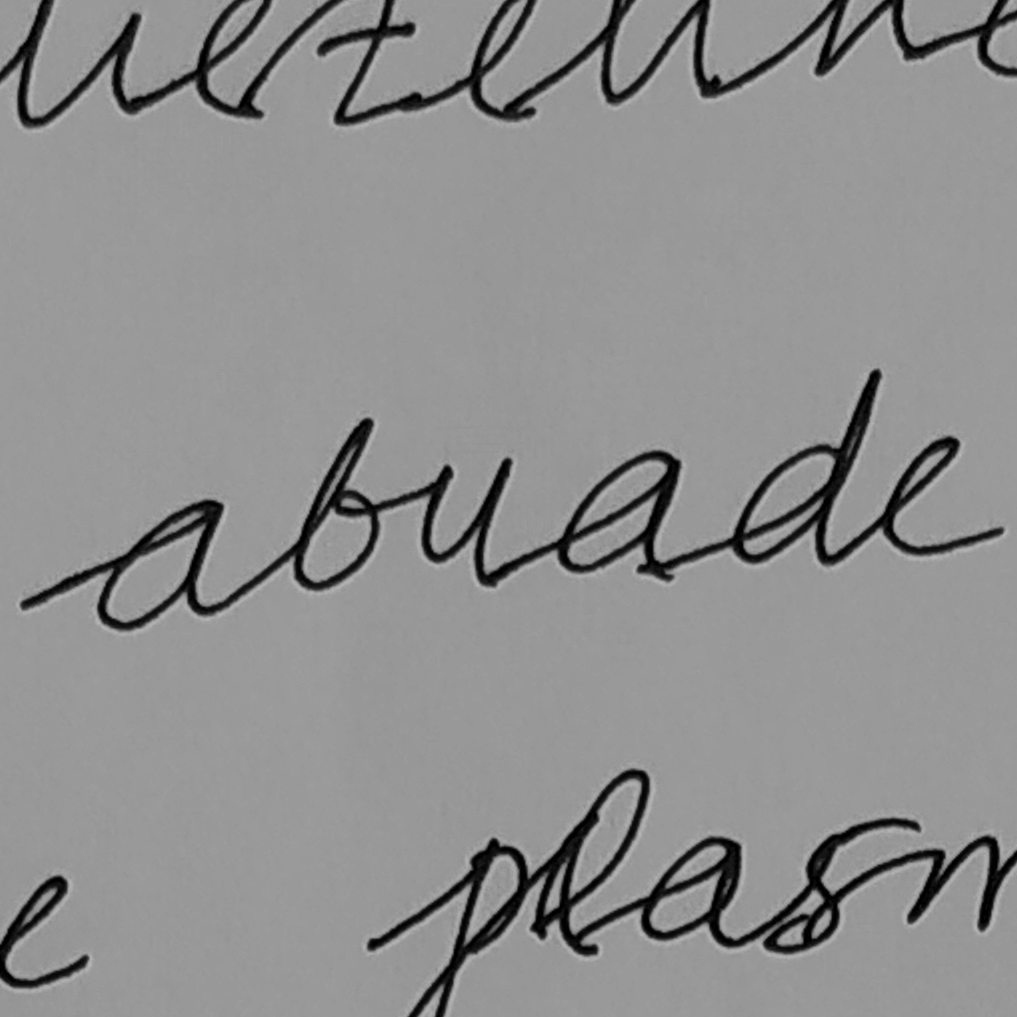a: (92, 496, 228, 637), (552, 445, 684, 588)
b: (289, 414, 383, 594)
d: (729, 364, 882, 570)
e: (880, 434, 1007, 558)
r: (417, 452, 517, 591)
